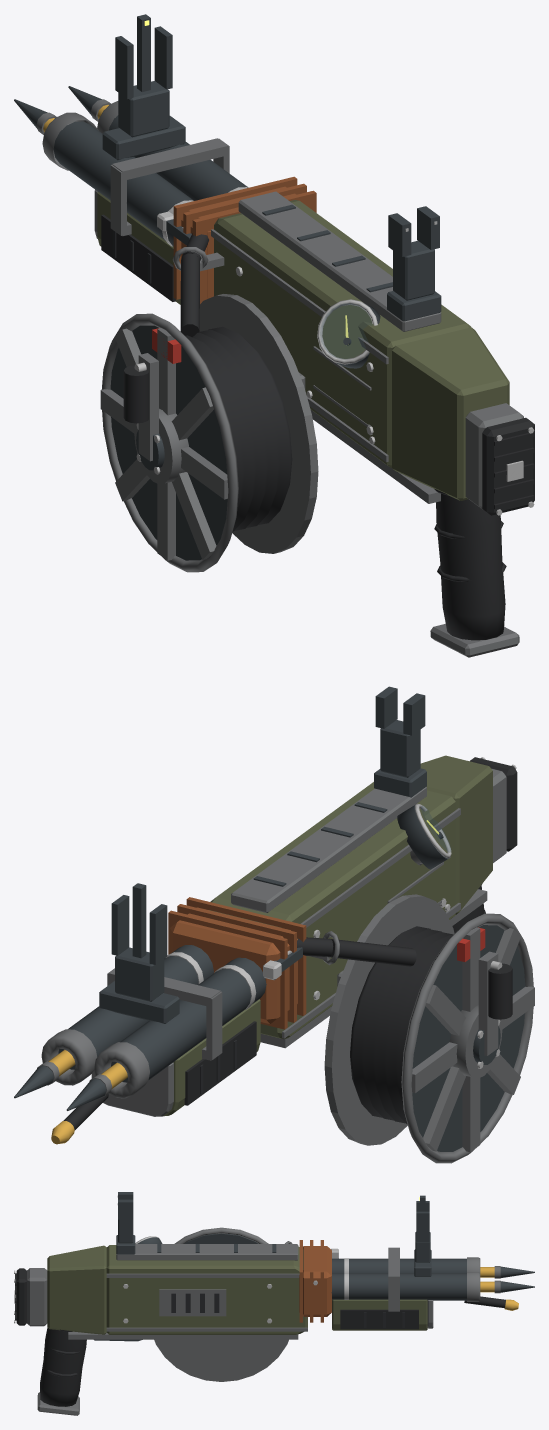
The model's file is vm_cable.glb.
3 renders of one model, top to bottom at view 1: azimuth 30°, elevation 25°; view 2: azimuth 150°, elevation 25°; view 3: azimuth 270°, elevation 25°, orthographic. The views are drawn at different scales.
Parts seen in each view (by area): view 1: carrete__wk_paint_olive, reel__wk_steel_park, carrete__wk_steel_park, carrete__wk_rubber, carrete__wk_steel_blued, cable_wind, reel__wk_steel_blued, barrel_tube, carrete__wk_bakelite, barrel_tube.001, gauge_lens, label_plate (+6 smaller); view 2: reel__wk_steel_park, carrete__wk_paint_olive, carrete__wk_steel_park, carrete__wk_steel_blued, cable_wind, carrete__wk_bakelite, reel__wk_steel_blued, barrel_tube, carrete__wk_rubber, barrel_tube.001, cable_carrete, barrel_crown (+7 smaller); view 3: carrete__wk_paint_olive, carrete__wk_steel_park, carrete__wk_rubber, reel__wk_steel_park, barrel_tube.001, carrete__wk_steel_blued, carrete__wk_bakelite, barrel_tube, carrete__wk_polymer, reel__wk_steel_blued, barrel_crown.001, cable_tipcord.
Part boxes in pixels (bbox=[...]): carrete__wk_paint_olive: bbox=[97, 191, 509, 500]; reel__wk_steel_park: bbox=[100, 294, 318, 572]; carrete__wk_steel_park: bbox=[94, 138, 523, 657]; carrete__wk_rubber: bbox=[101, 214, 534, 640]; carrete__wk_steel_blued: bbox=[102, 14, 441, 368]; cable_wind: bbox=[185, 326, 292, 531]; reel__wk_steel_blued: bbox=[110, 325, 227, 560]; barrel_tube: bbox=[53, 121, 193, 246]; carrete__wk_bakelite: bbox=[173, 176, 316, 303]; barrel_tube.001: bbox=[109, 115, 248, 200]; gauge_lens: bbox=[320, 303, 372, 358]; label_plate: bbox=[314, 351, 368, 424]; reel__wk_steel_park: bbox=[324, 894, 534, 1163]; carrete__wk_paint_olive: bbox=[163, 755, 492, 1116]; carrete__wk_steel_park: bbox=[91, 768, 506, 1116]; carrete__wk_steel_blued: bbox=[99, 686, 448, 1023]; cable_wind: bbox=[350, 926, 453, 1124]; carrete__wk_bakelite: bbox=[168, 897, 306, 1029]; reel__wk_steel_blued: bbox=[412, 925, 525, 1151]; barrel_tube: bbox=[111, 957, 266, 1082]; carrete__wk_rubber: bbox=[184, 757, 517, 1105]; barrel_tube.001: bbox=[58, 945, 213, 1069]; cable_carrete: bbox=[297, 937, 416, 966]; barrel_crown: bbox=[94, 1042, 149, 1098]; carrete__wk_paint_olive: bbox=[47, 1245, 427, 1334]; carrete__wk_steel_park: bbox=[27, 1241, 433, 1415]; carrete__wk_rubber: bbox=[15, 1268, 418, 1406]; reel__wk_steel_park: bbox=[154, 1227, 288, 1381]; barrel_tube.001: bbox=[331, 1273, 466, 1300]; carrete__wk_steel_blued: bbox=[94, 1192, 431, 1341]; carrete__wk_bakelite: bbox=[299, 1240, 331, 1322]; barrel_tube: bbox=[332, 1258, 466, 1273]; carrete__wk_polymer: bbox=[171, 1293, 404, 1327]; reel__wk_steel_blued: bbox=[184, 1233, 258, 1243]; barrel_crown.001: bbox=[467, 1272, 480, 1301]; cable_tipcord: bbox=[464, 1296, 505, 1308].
Bounding box in the file's own units: 0.1735 × 0.2449 × 0.5437.
